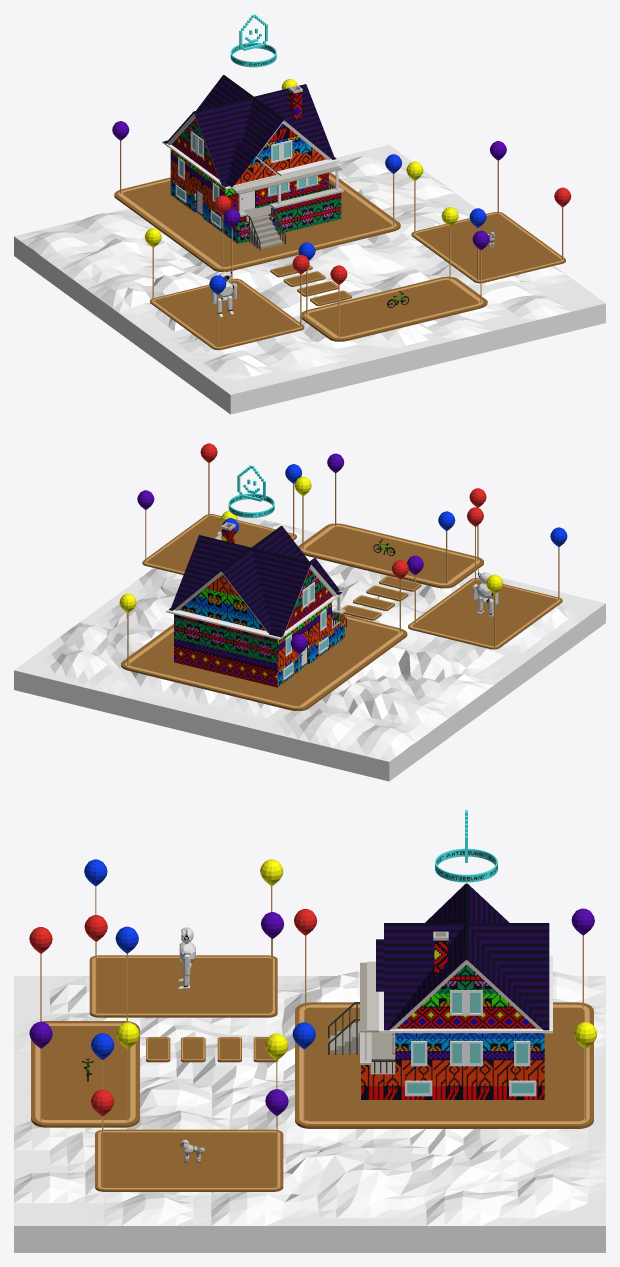
3 views of the same model, one above another, from view 1: azimuth 30°, elevation 25°; view 2: azimuth 150°, elevation 25°; view 3: azimuth 270°, elevation 25° (orthographic). The views are drawn at different scales.
Parts seen in each view (by area): view 1: Cube.013, Cube.966, TYPE_PREMIUM, OBJRANDOM_PLATZEEBOT; view 2: Cube.013, Cube.966, TYPE_PREMIUM, OBJRANDOM_PLATZEEBOT; view 3: Cube.013, Cube.966, TYPE_PREMIUM, OBJRANDOM_PLATZEEBOT.
Boxes of the visible parts, left/top/right/bottom form: Cube.013: left=14, top=79, right=605, bottom=414; Cube.966: left=162, top=75, right=343, bottom=250; TYPE_PREMIUM: left=230, top=14, right=276, bottom=67; OBJRANDOM_PLATZEEBOT: left=211, top=267, right=237, bottom=316; Cube.013: left=14, top=443, right=605, bottom=781; Cube.966: left=166, top=522, right=346, bottom=687; TYPE_PREMIUM: left=228, top=465, right=274, bottom=517; OBJRANDOM_PLATZEEBOT: left=473, top=568, right=498, bottom=616; Cube.013: left=14, top=859, right=605, bottom=1252; Cube.966: left=328, top=883, right=552, bottom=1099; TYPE_PREMIUM: left=435, top=810, right=497, bottom=882; OBJRANDOM_PLATZEEBOT: left=178, top=927, right=195, bottom=988.
Size of the model in its own units: 4000 by 2447 by 4000.
Materials: 36 (6 with a texture image).
